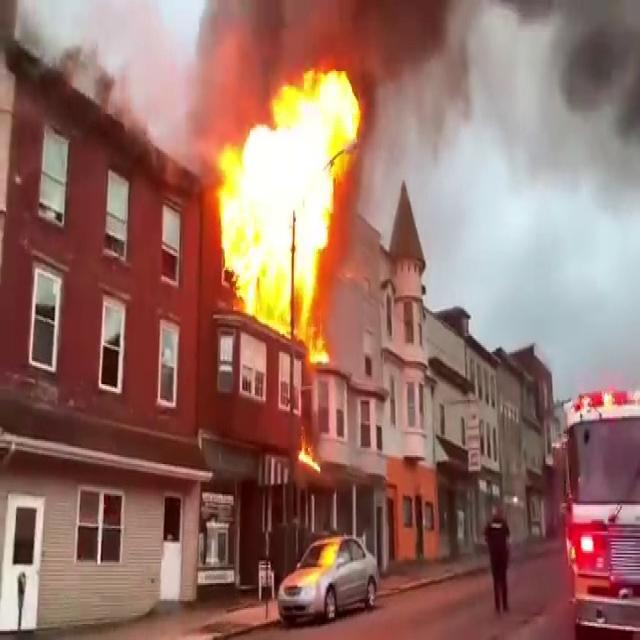Fire: (206, 54, 364, 339)
Smoke: (357, 2, 639, 220)
